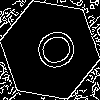O: (25, 25, 79, 78)
